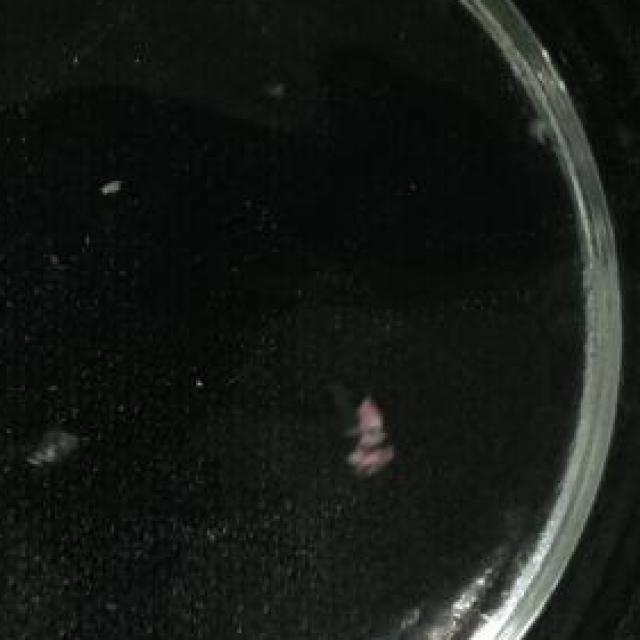Microplastic: (344, 402, 405, 485), (23, 407, 98, 473)
